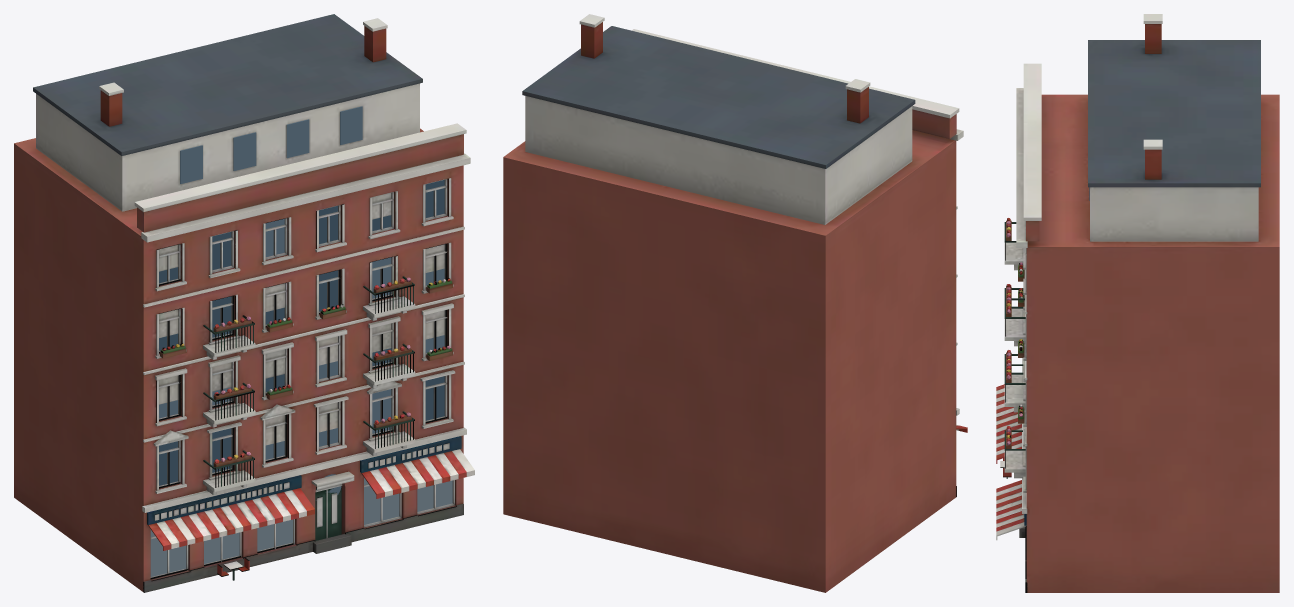
File: getkong-hh1.glb
The picture shows the model from 3 angles, left to right: view 1: azimuth 30°, elevation 25°; view 2: azimuth 150°, elevation 25°; view 3: azimuth 270°, elevation 25°; orthographic projection. The views are drawn at different scales.
Visible parts, largest first — view 1: Haus; view 2: Haus; view 3: Haus.
Boxes of the visible parts, x1,y1,x2,y2 form: Haus: (14, 14, 474, 592); Haus: (503, 14, 967, 592); Haus: (996, 14, 1279, 592).
Size of the model in its own units: 17.3 by 22.95 by 13.45.
5 materials, 2 textured.
